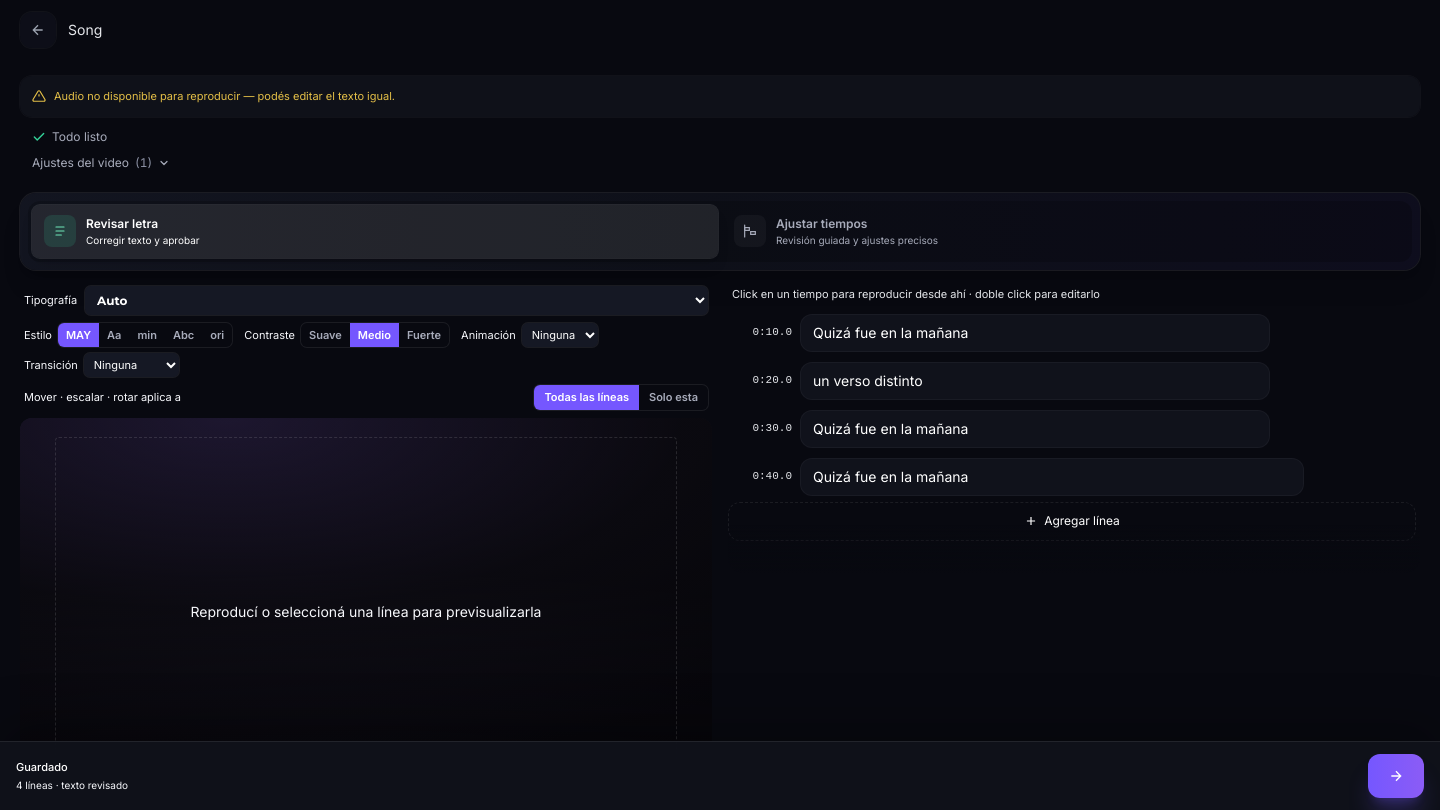
Test case: LyricsEditor — repeat-line propagation › offers propagation when editing one of several identical lines
Replace the text in the field showing "Quizá fue en la mañana" with "Quizás fue en la mañana, vendados" at (1035, 333), box [800,314,1270,352]
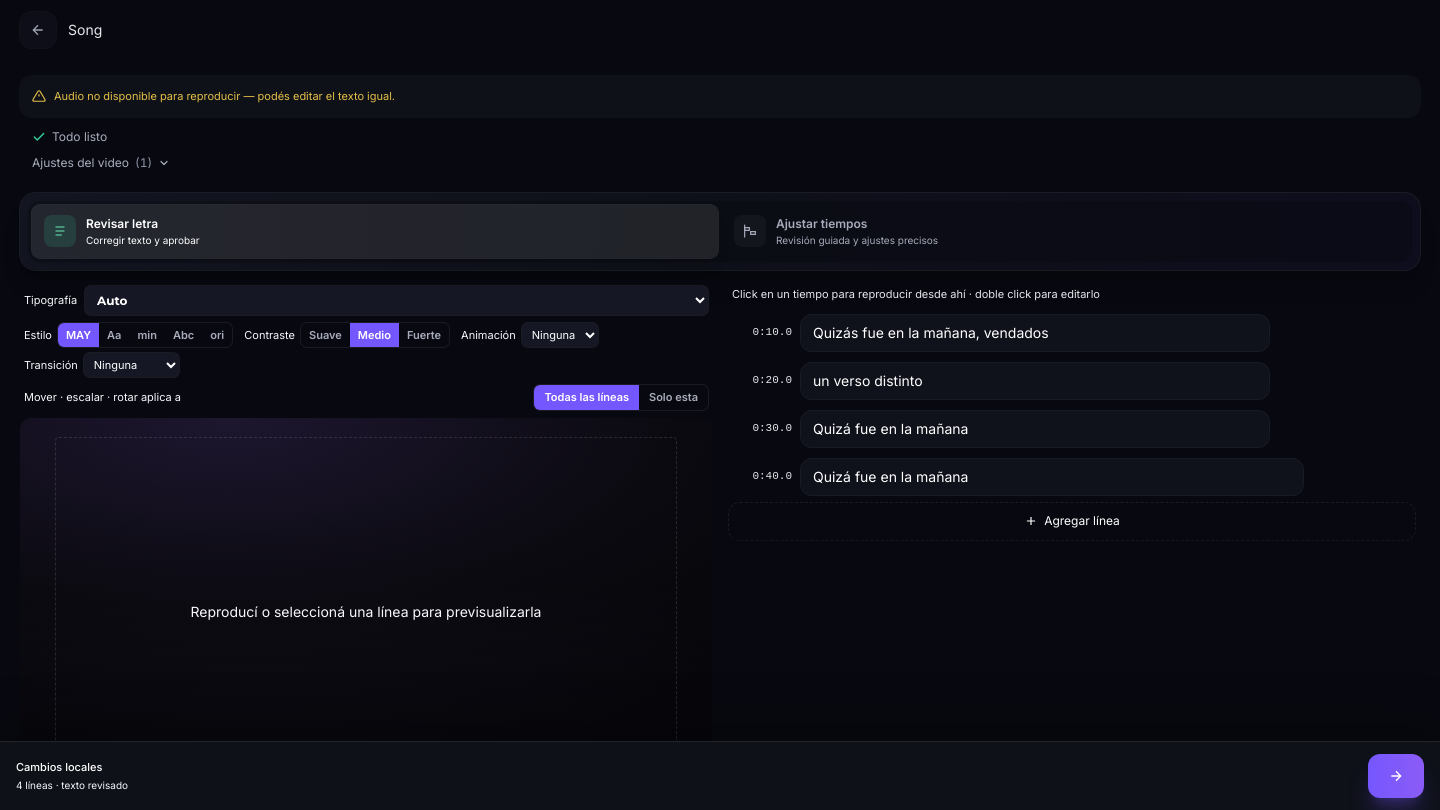
Leave the field showing "Quizá fue en la mañana", box [800,314,1270,352]
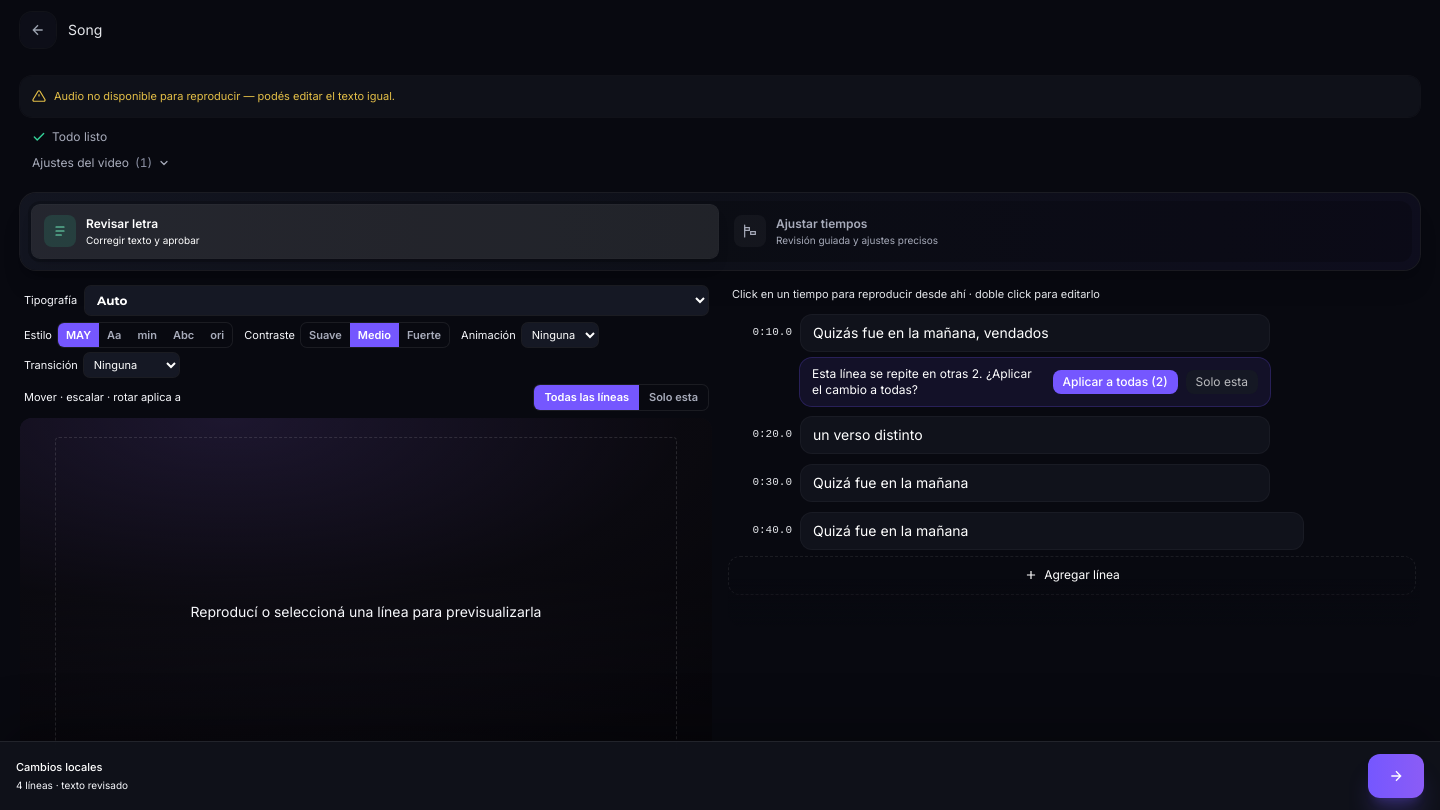
Expected: the text "Esta línea se repite en otras 2. ¿Aplicar el cambio a todas?" is shown, [812,366,1044,398]
Expected: the button "Aplicar a todas (2)" is shown, [1052,370,1178,394]
